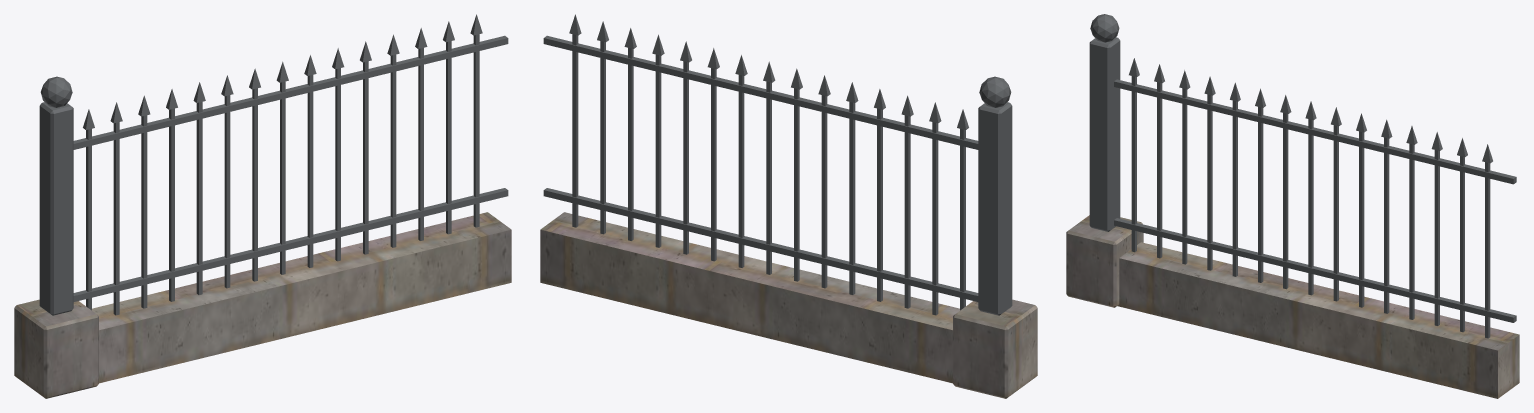
Rendered from fence.glb.
3 views of the same model, side by side, from view 1: azimuth 30°, elevation 25°; view 2: azimuth 150°, elevation 25°; view 3: azimuth 330°, elevation 25° (orthographic). The views are drawn at different scales.
Parts seen in each view (by area): view 1: fence_plinth, fence_iron; view 2: fence_plinth, fence_iron; view 3: fence_plinth, fence_iron.
Boxes of the visible parts, x1,y1,x2,y2 form: fence_plinth: (14,212,511,398); fence_iron: (39,14,508,315); fence_plinth: (540,212,1037,398); fence_iron: (543,14,1012,315); fence_plinth: (1066,215,1519,398); fence_iron: (1089,14,1516,338).
Bounding box in the file's own units: 2.07 × 1.26 × 0.24.
2 materials, 1 textured.
